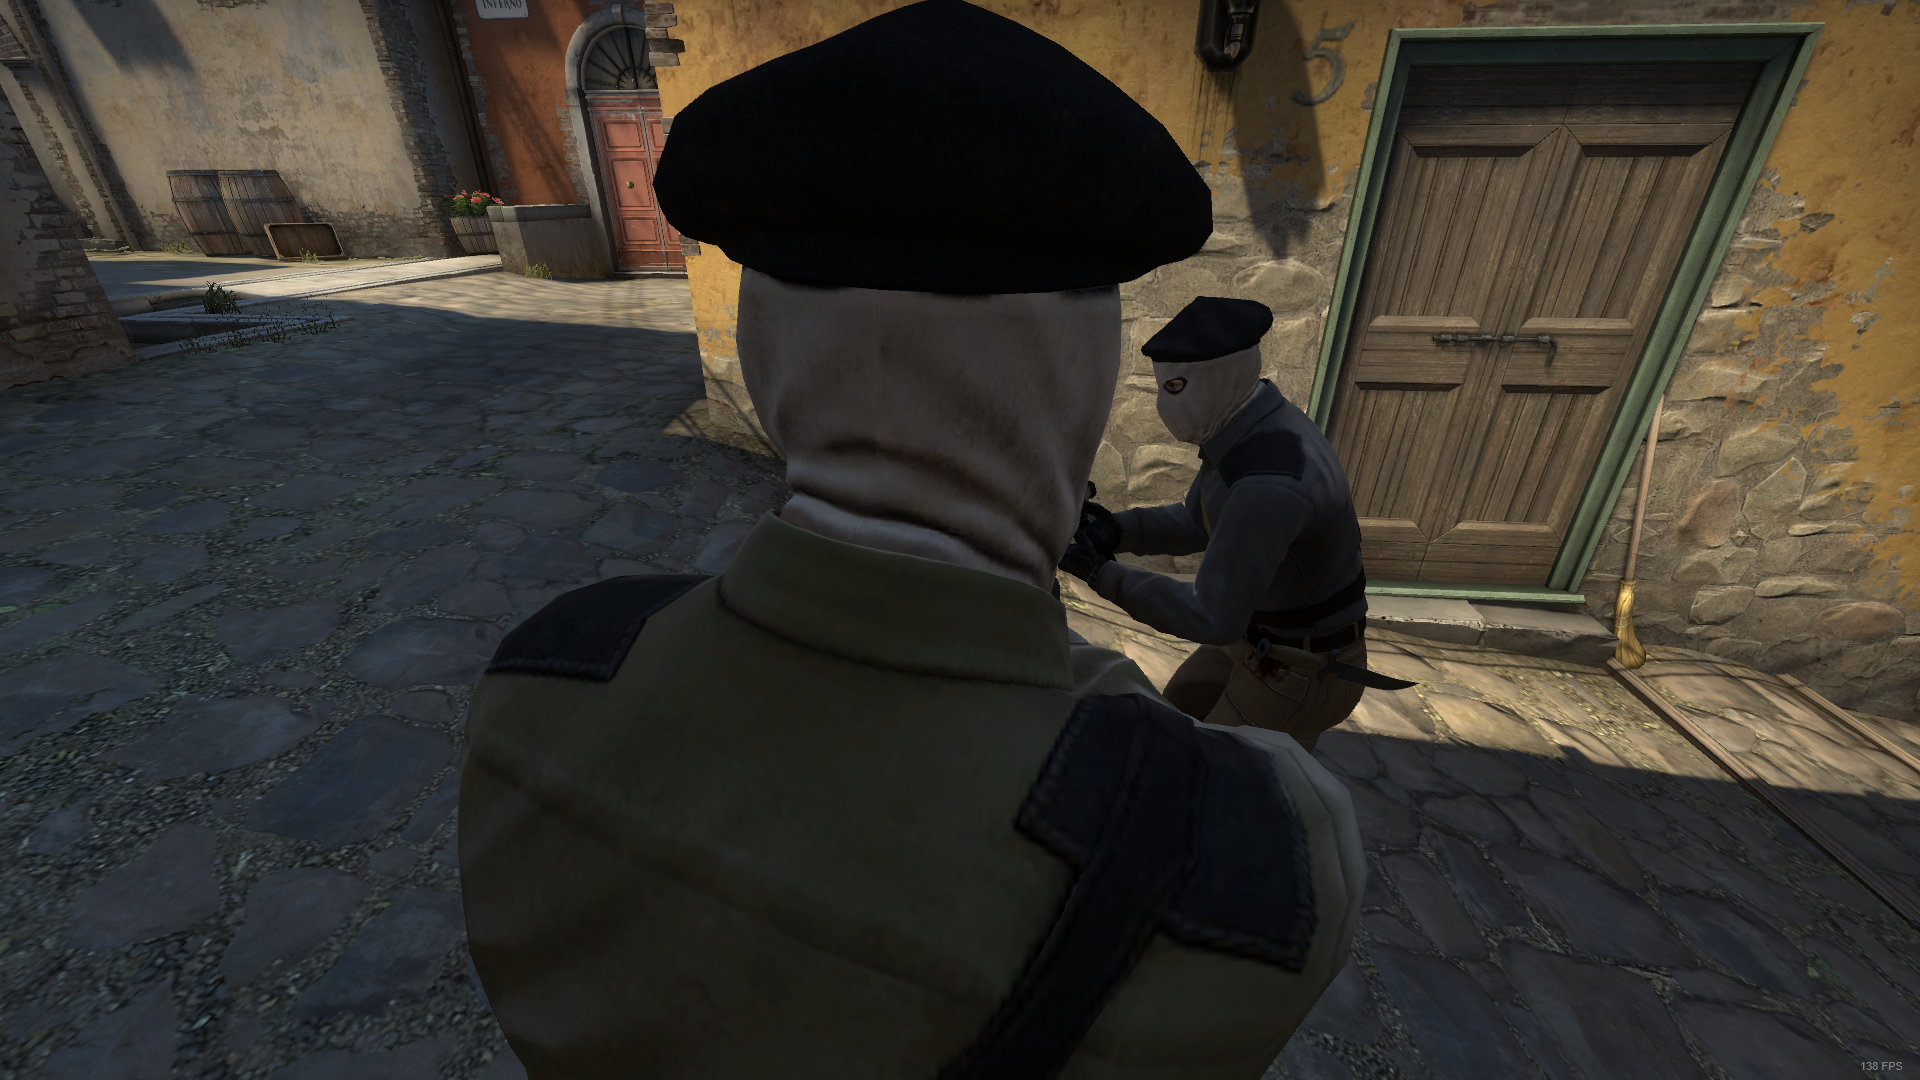t: (463, 1, 1365, 1080), (1084, 297, 1366, 738)
